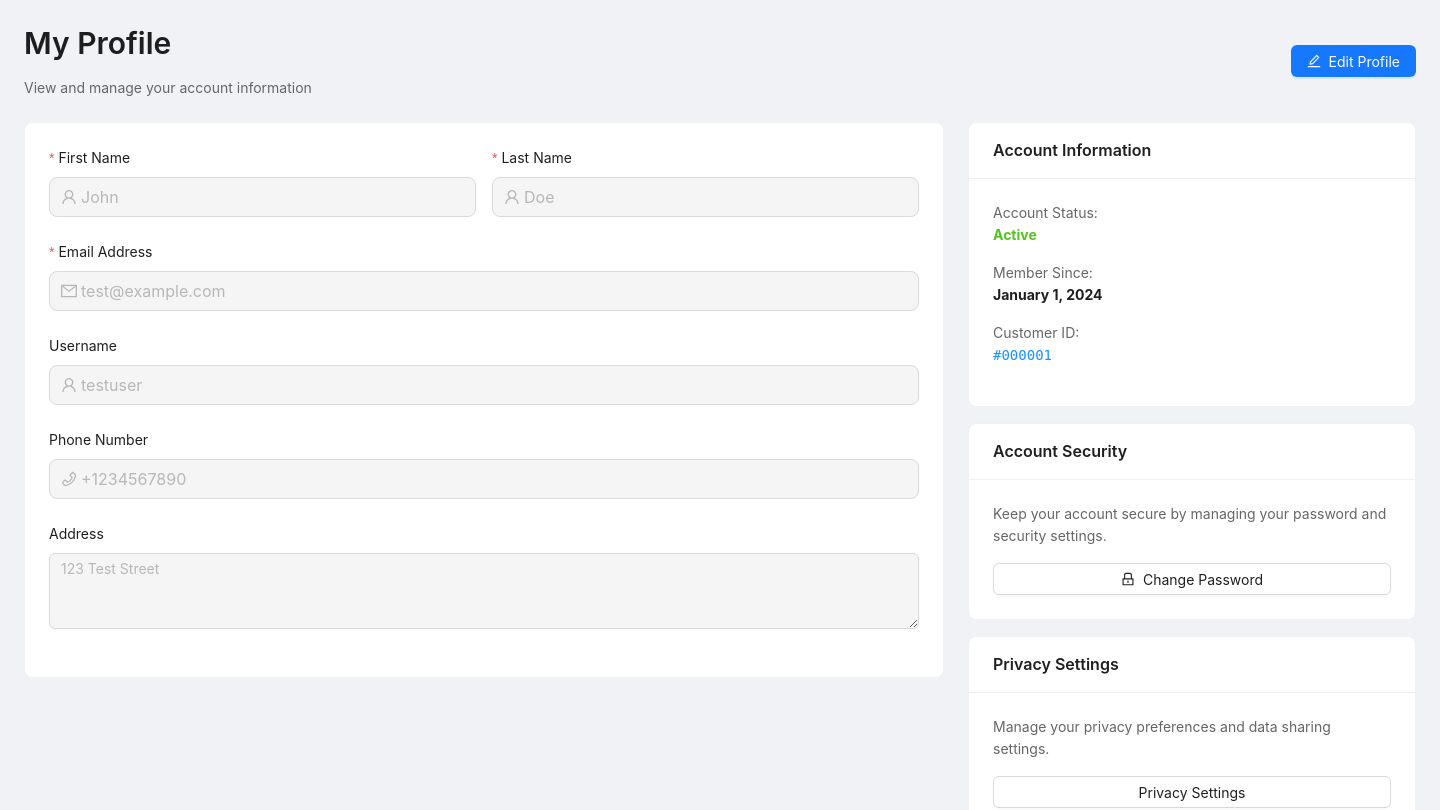
Profile Update Functionality › CustomerProfilePage › shows password change modal
Expected: the text "Change Password" is shown, [1143, 570, 1263, 588]
Click the button "Change Password": coordinates (1192, 579) [993, 563, 1391, 595]
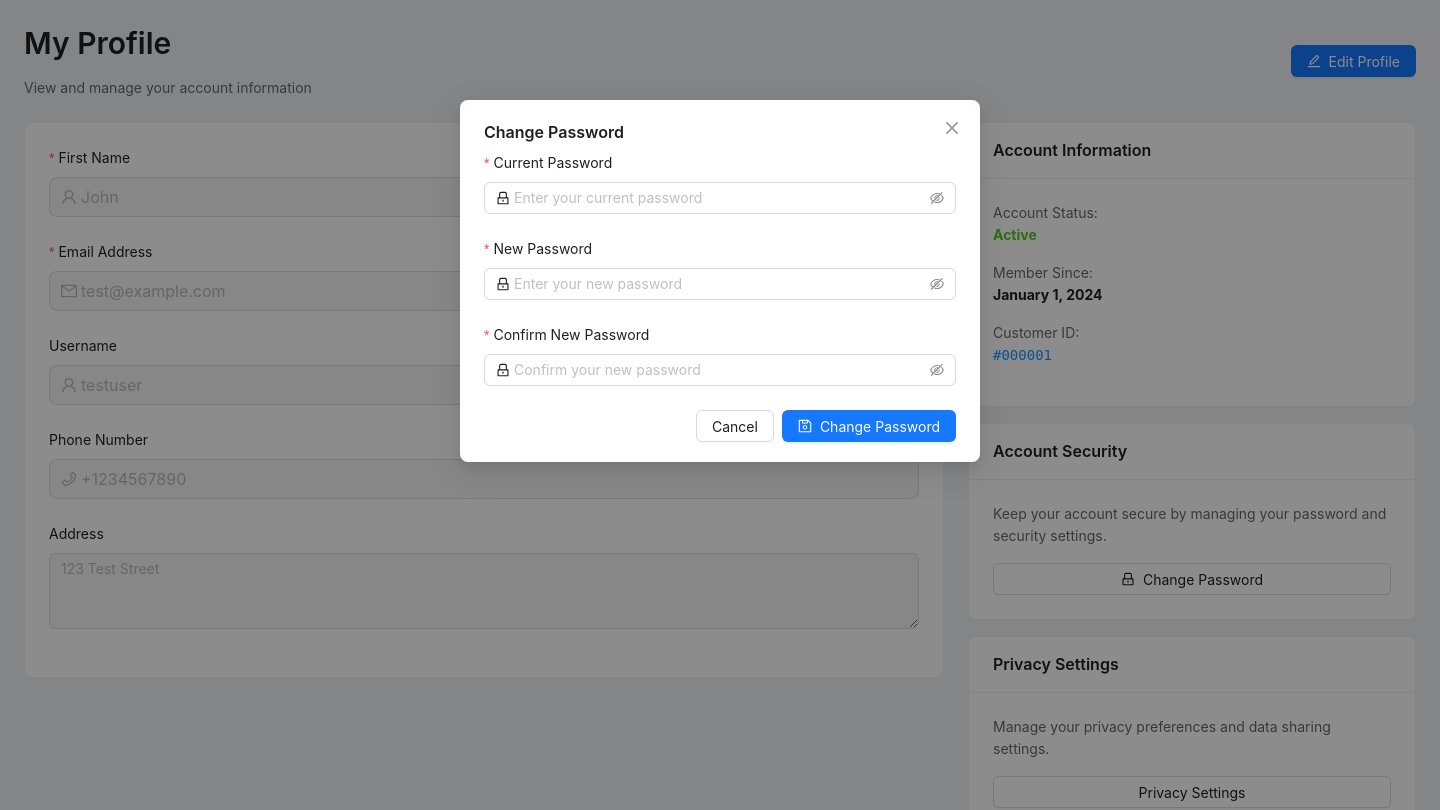
Now the text "Current Password" is shown, box [494, 154, 612, 171]
Now the text "New Password" is shown, box [494, 240, 592, 257]
Now the text "Confirm New Password" is shown, box [484, 324, 663, 346]
